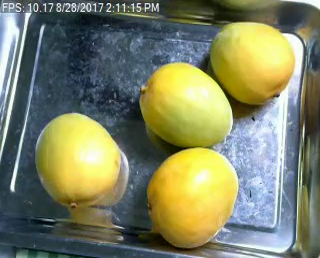Mango: (146, 148, 239, 248), (142, 62, 234, 147), (33, 114, 119, 204), (211, 22, 293, 105)
